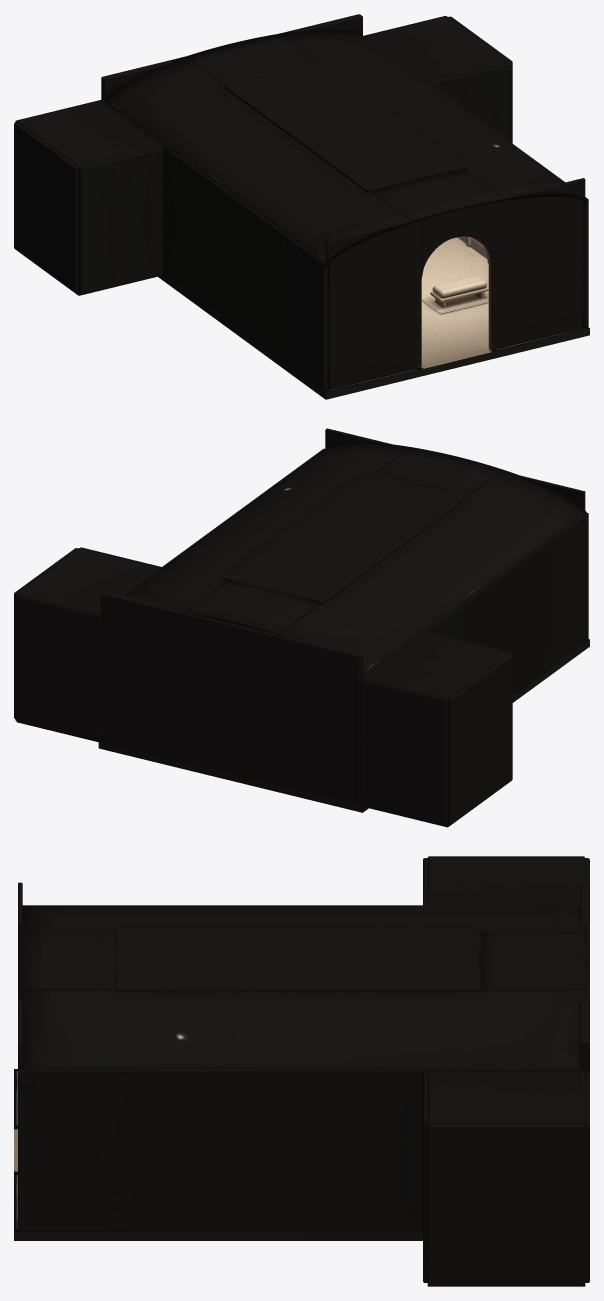
The model's file is hall-interior.glb.
The picture shows the model from 3 angles, top to bottom: view 1: azimuth 30°, elevation 25°; view 2: azimuth 150°, elevation 25°; view 3: azimuth 270°, elevation 25°; orthographic projection. The views are drawn at different scales.
Parts seen in each view (by area): view 1: LIGHTMAP hall walls, SURFACE hall floor, SURFACE hall furniture; view 2: LIGHTMAP hall walls, SURFACE hall floor; view 3: LIGHTMAP hall walls, SURFACE hall floor.
Part boxes in pixels (x1,y1,x2,y2): LIGHTMAP hall walls: [14, 14, 588, 391]; SURFACE hall floor: [75, 236, 589, 399]; SURFACE hall furniture: [422, 275, 488, 314]; LIGHTMAP hall walls: [14, 428, 588, 825]; SURFACE hall floor: [16, 639, 589, 827]; LIGHTMAP hall walls: [18, 856, 589, 1284]; SURFACE hall floor: [14, 1069, 585, 1286].
Size of the model in its own units: 20.3 by 7.05 by 18.27.
17 materials, 17 textured.
